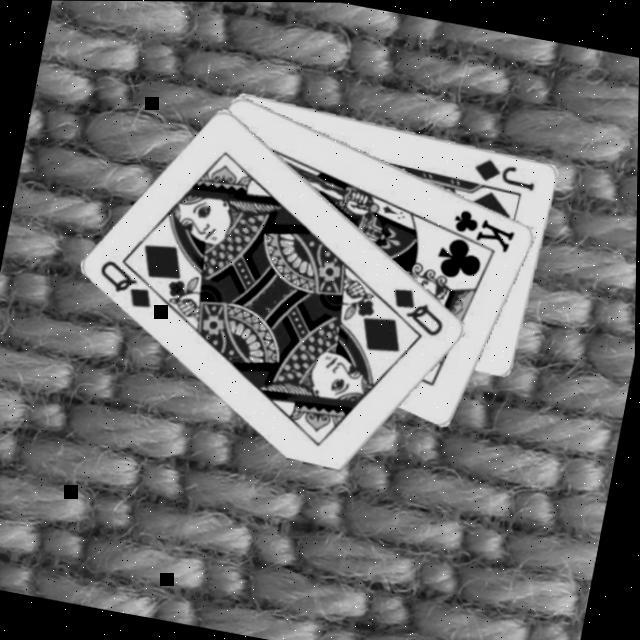JD: (472, 150, 544, 191)
KC: (439, 200, 524, 258)
QD: (386, 280, 456, 339), (94, 253, 164, 311)
